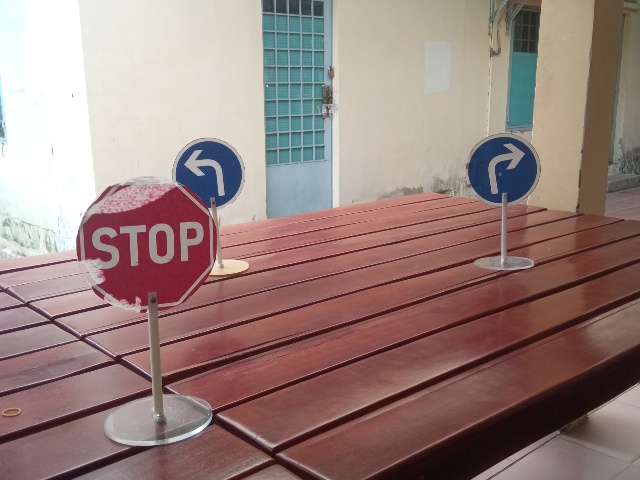Left_Sign: (172, 138, 246, 211)
Right_Sign: (465, 132, 541, 207)
Stop_Sign: (75, 175, 217, 313)
